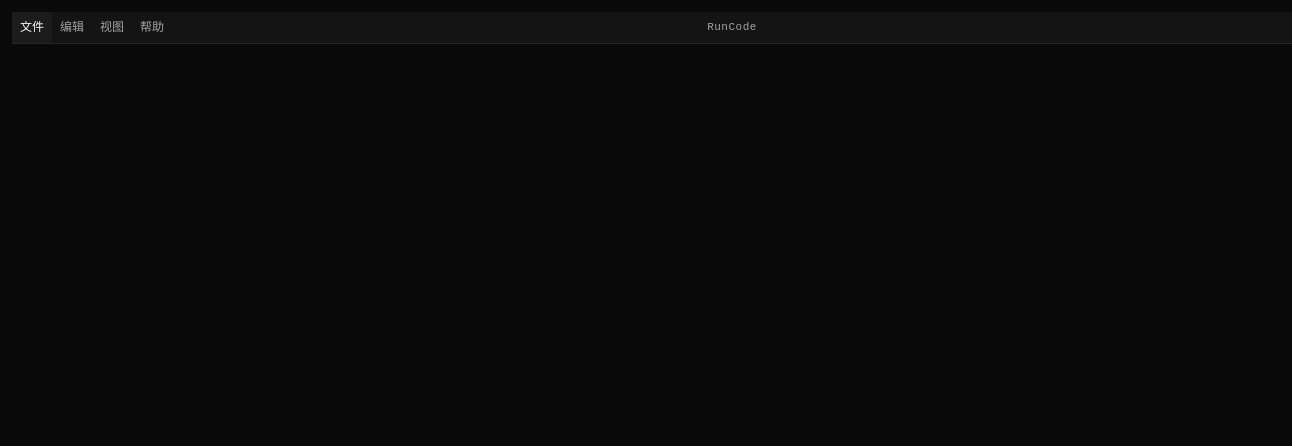
Scenario: TitleBar › 编辑菜单渲染撤销、重做、剪切、复制、粘贴、全选
The image size is (1292, 446).
Step 1. Click the button "编辑" → (72, 28), box [52,12,92,43]
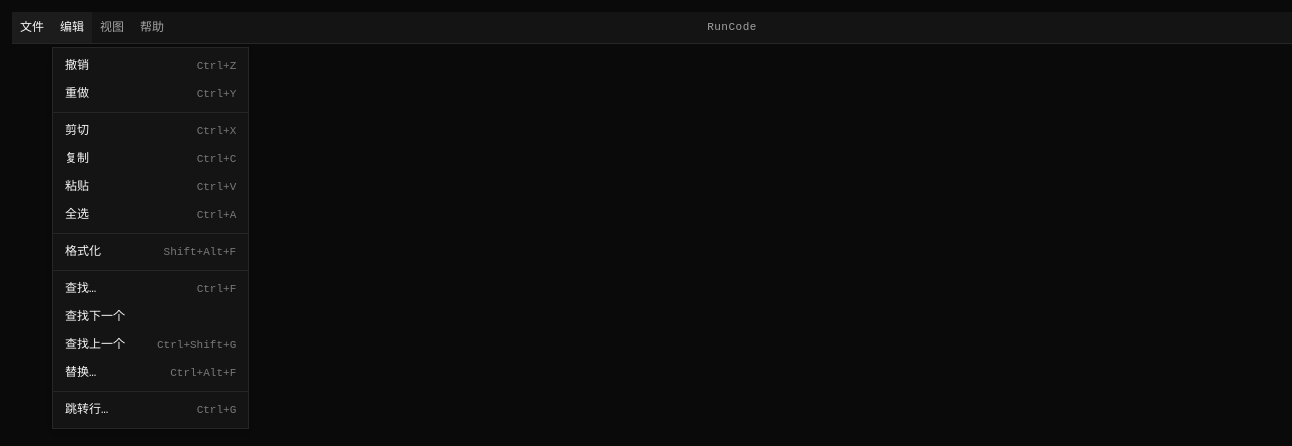
Expected: the menu item "撤销 Ctrl+Z" is shown, [65,59,236,73]
Expected: the menu item "重做 Ctrl+Y" is shown, [65,87,236,101]
Expected: the menu item "剪切 Ctrl+X" is shown, [65,124,236,138]
